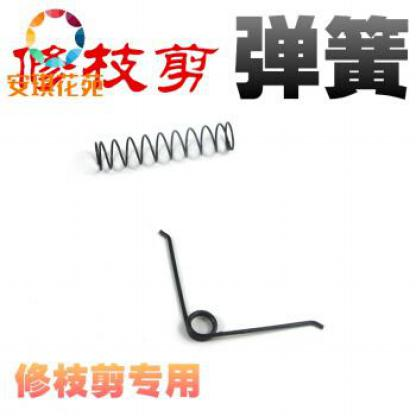FOD: (156, 222, 326, 341), (91, 119, 237, 175)
